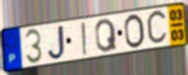3: (23, 27, 44, 66)
C: (145, 8, 169, 48)
I: (80, 21, 89, 57)
J: (46, 24, 66, 62)
O: (123, 13, 146, 50)
Q: (94, 17, 119, 54)
